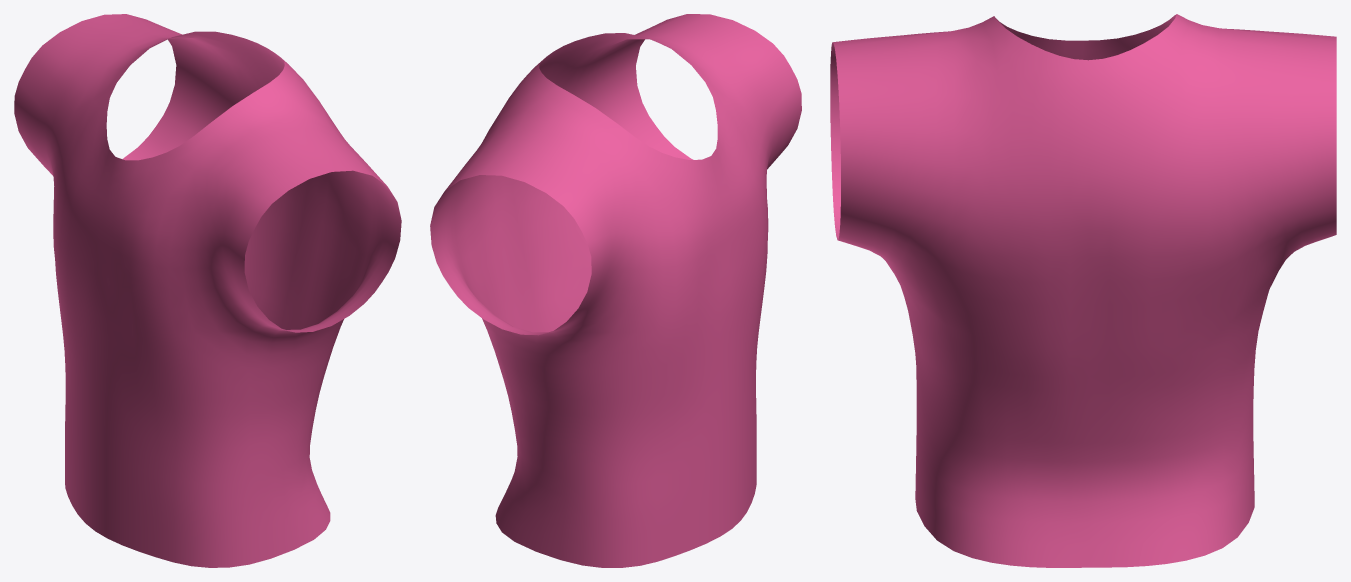
File: Tshirt.fbx
3 views of the same model, side by side, from view 1: azimuth 30°, elevation 25°; view 2: azimuth 150°, elevation 25°; view 3: azimuth 270°, elevation 25° (orthographic). The views are drawn at different scales.
Parts seen in each view (by area): view 1: Shirt01; view 2: Shirt01; view 3: Shirt01.
Part boxes in pixels (left/top/right/bottom): Shirt01: left=14, top=14, right=401, bottom=567; Shirt01: left=430, top=14, right=801, bottom=567; Shirt01: left=830, top=14, right=1336, bottom=567.
Size of the model in its own units: 224 by 411 by 375.
